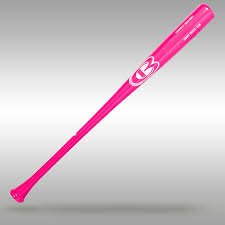baseball bat: (10, 2, 215, 203)
